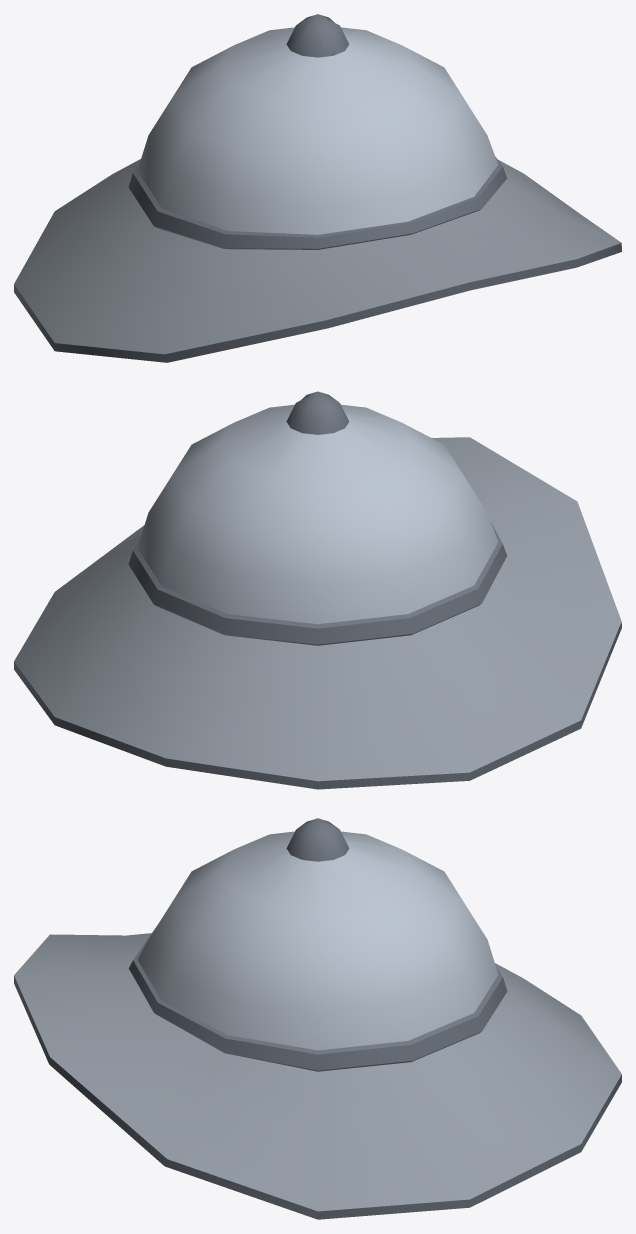
File: helmetArcher.fbx
3 renders of one model, top to bottom at view 1: azimuth 30°, elevation 25°; view 2: azimuth 150°, elevation 25°; view 3: azimuth 270°, elevation 25°, orthographic.
Visible parts, largest first — view 1: helmetArcher; view 2: helmetArcher; view 3: helmetArcher.
Boxes of the visible parts, x1,y1,x2,y2 form: helmetArcher: [14, 14, 621, 362]; helmetArcher: [14, 391, 621, 789]; helmetArcher: [14, 818, 621, 1219].
Bounding box in the file's own units: 0.7578 × 0.3826 × 0.7578.
